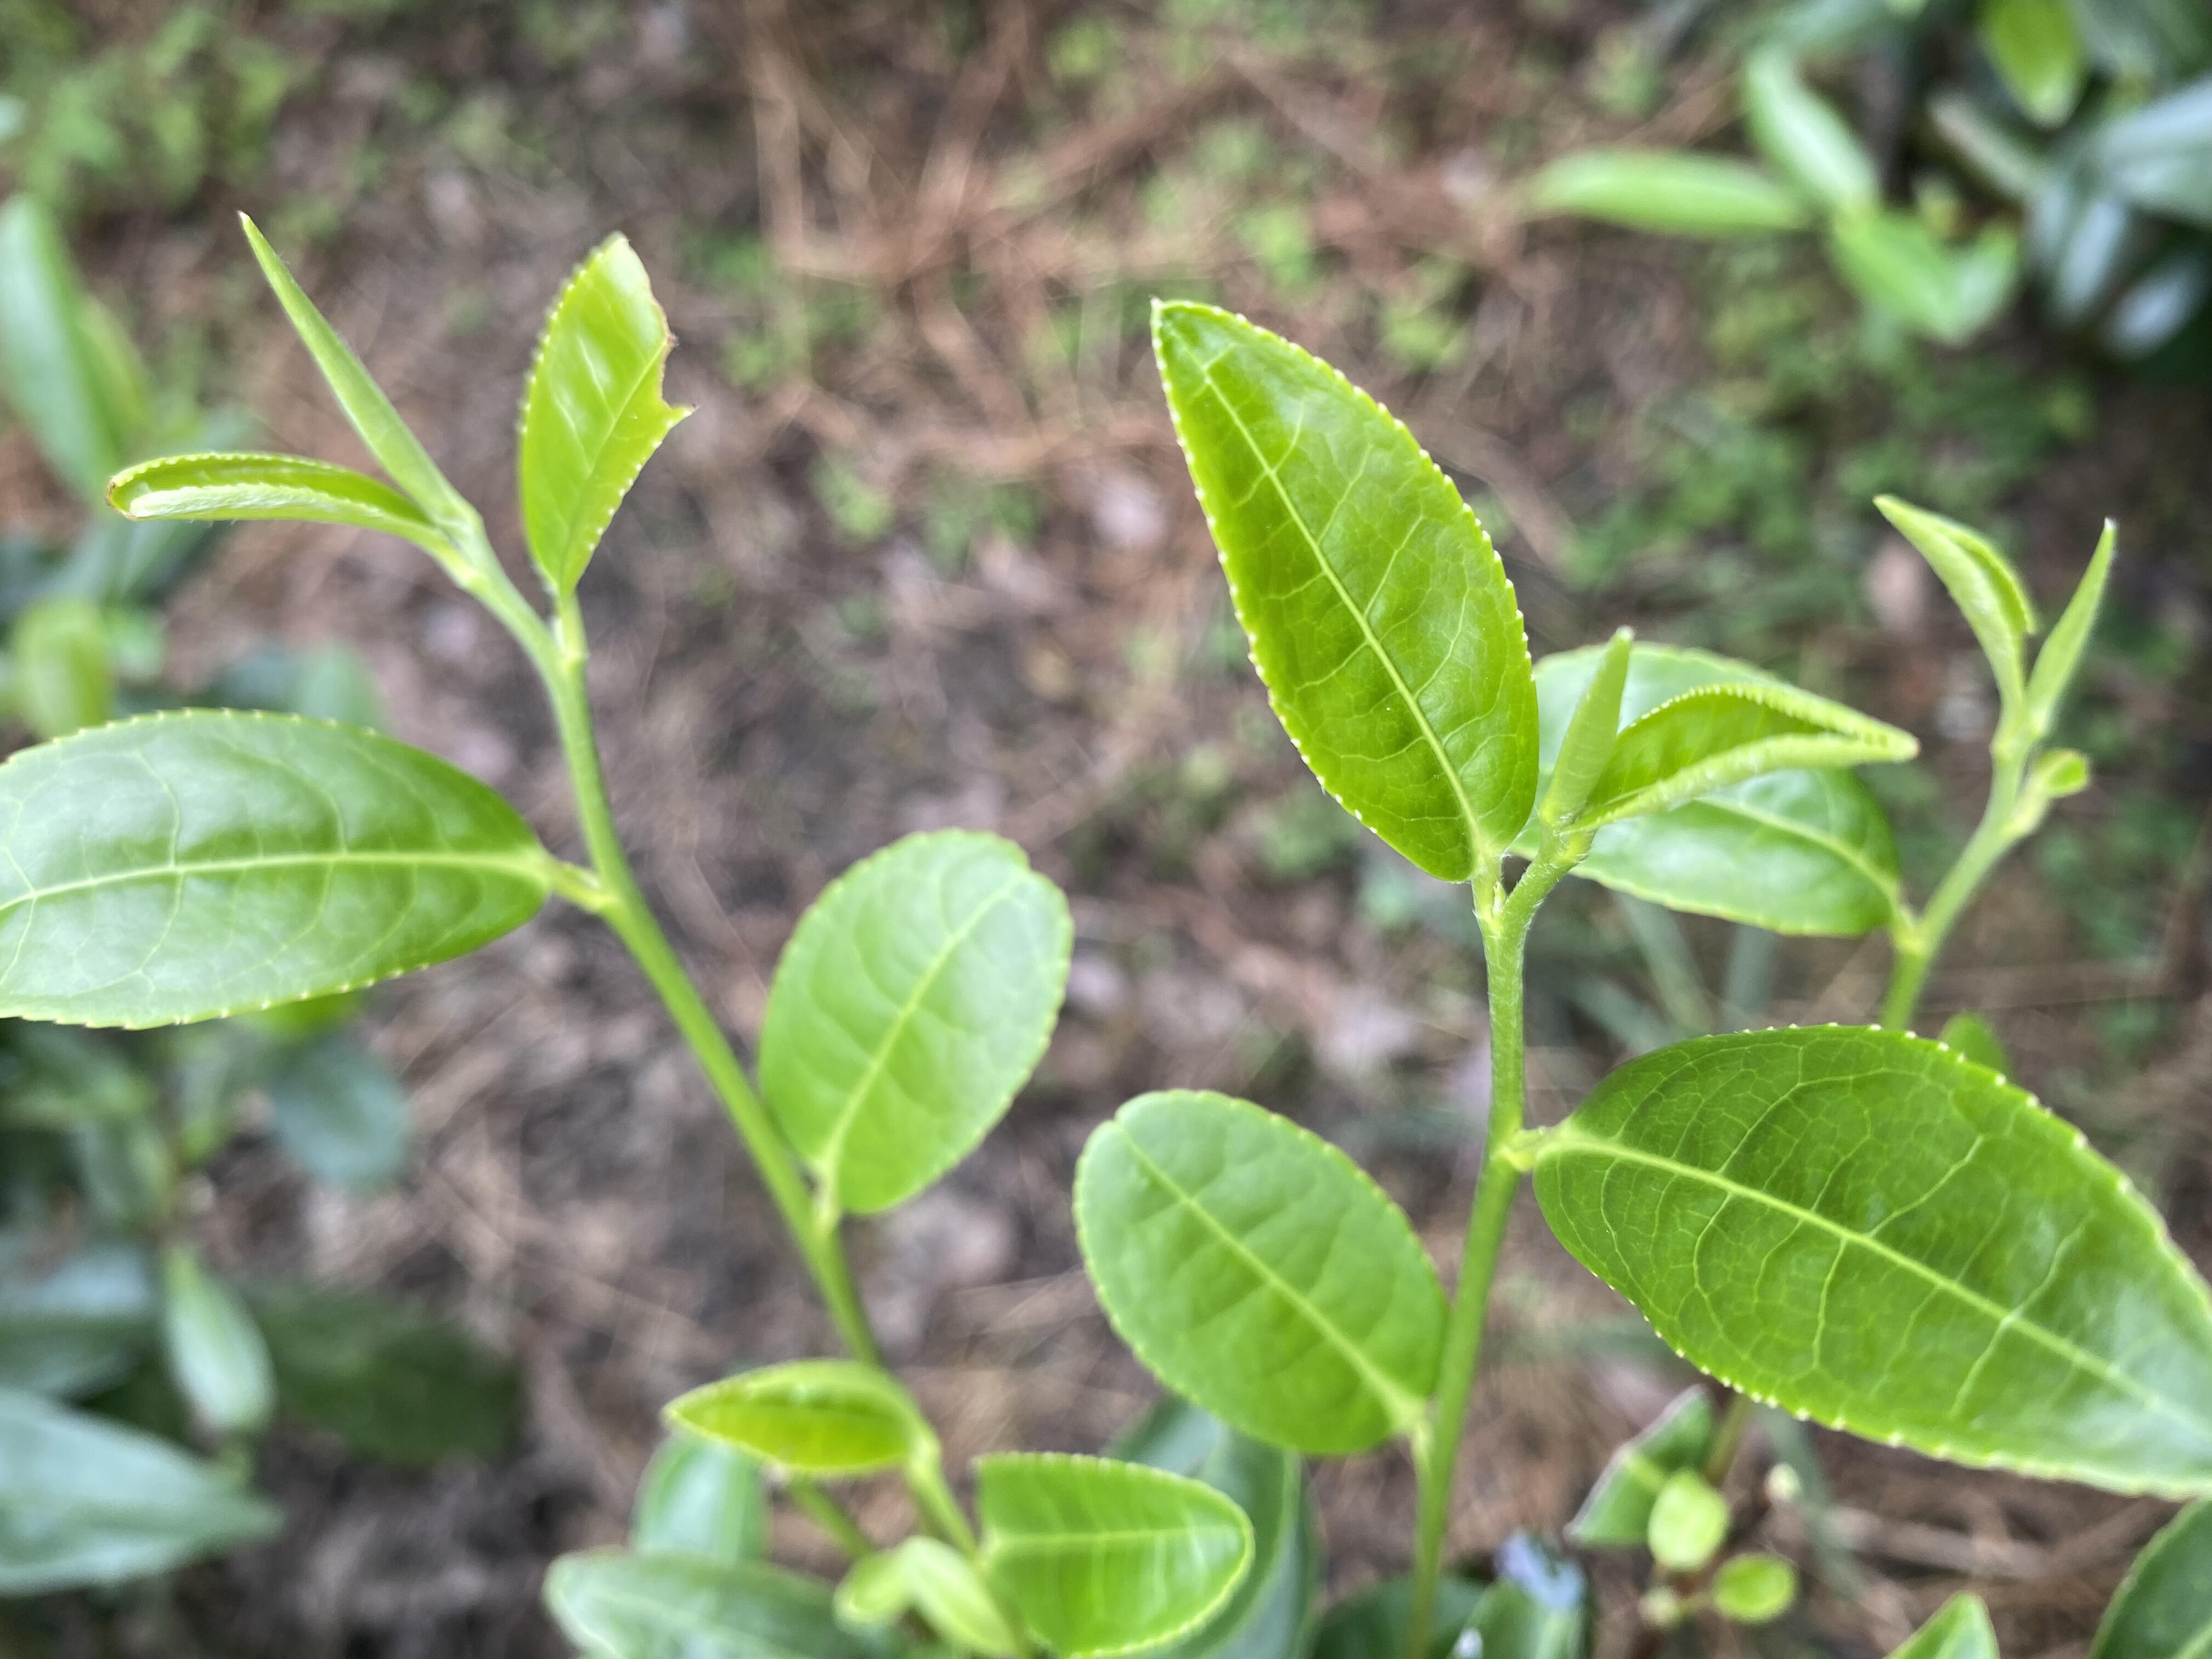chihuo_high: (514, 232, 700, 599)
healthy: (1533, 1021, 2209, 1500), (1151, 300, 1541, 884), (2, 706, 549, 1033), (1073, 1086, 1447, 1455), (751, 828, 1078, 1218)
